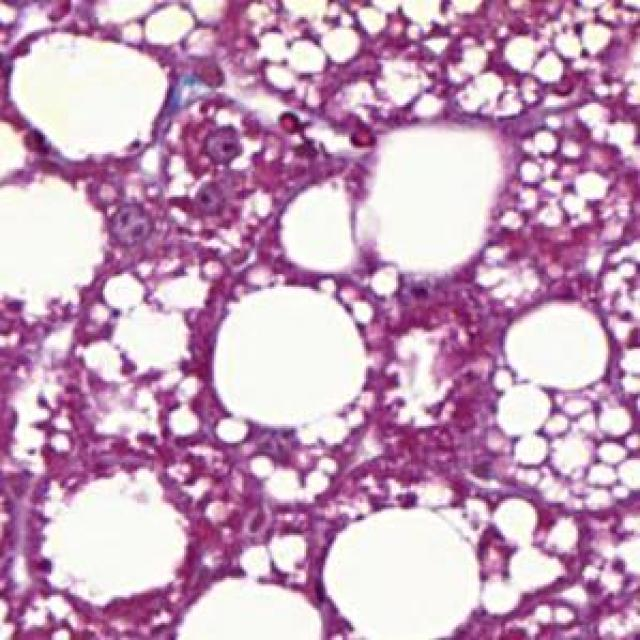steatosis: (203, 285, 377, 432), (499, 298, 612, 392)
